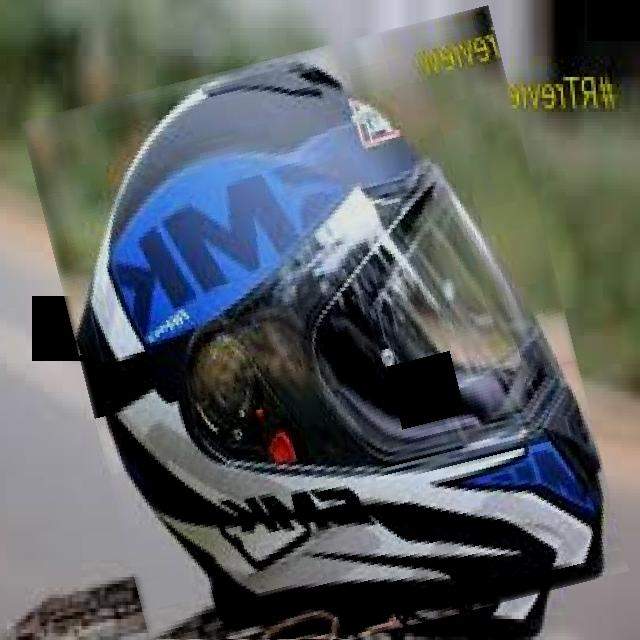helmet: (53, 30, 598, 640)
